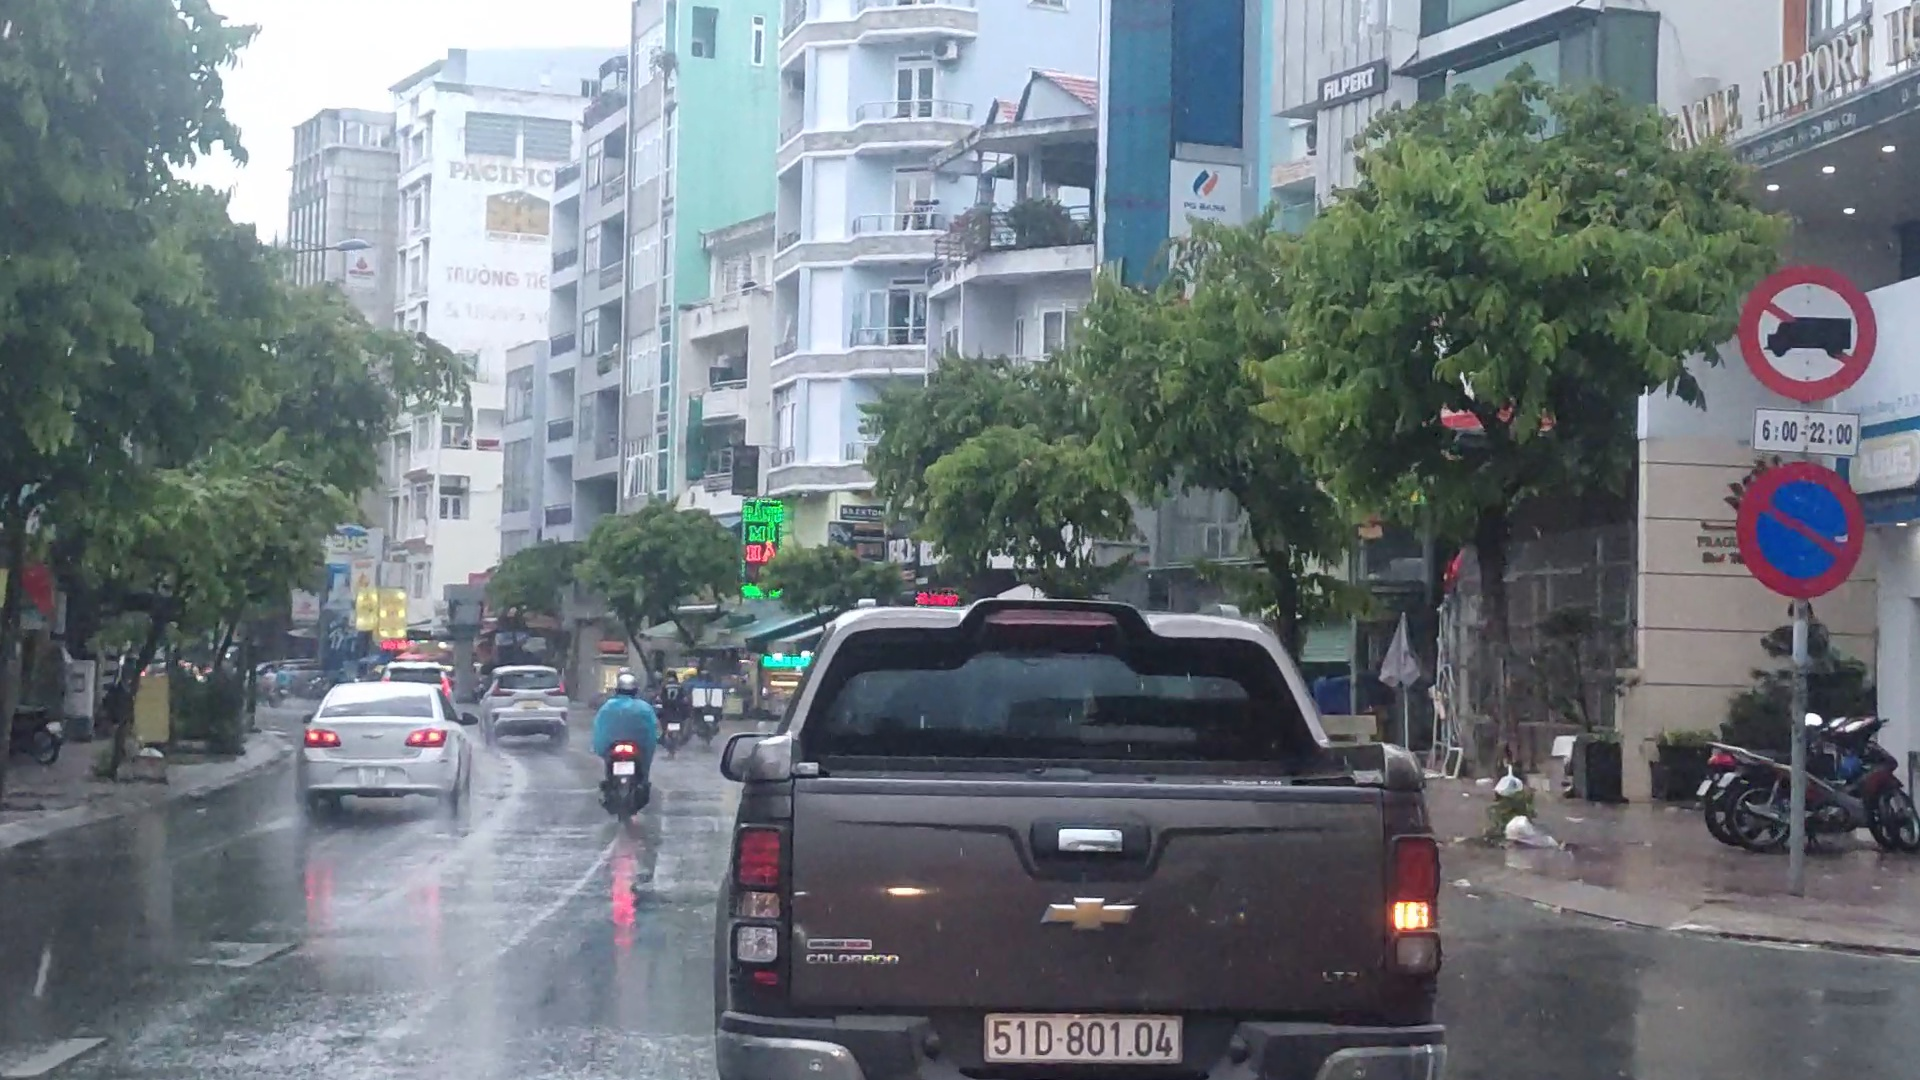P.106a*Xe tải: (1738, 265, 1879, 402)
P.131a: (1734, 462, 1862, 597)
